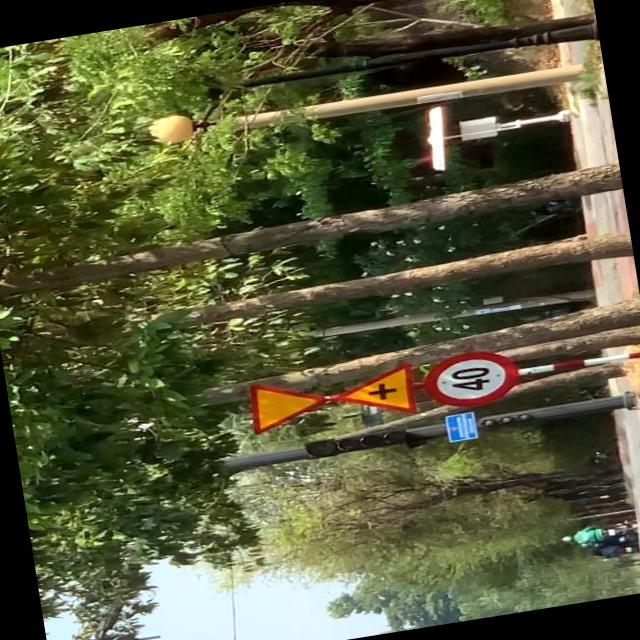P-127: (419, 345, 525, 412)
W-205a: (328, 362, 418, 426)
W-208: (243, 370, 330, 436)
